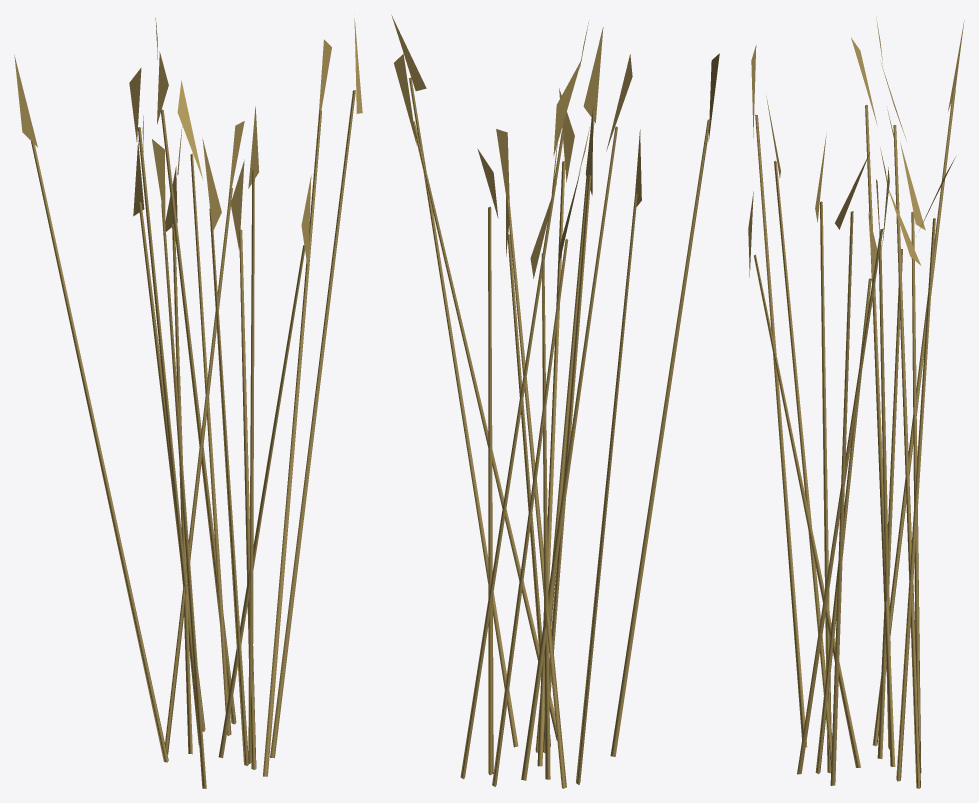
Rendered from trigo_3.glb.
3 renders of one model, left to right at view 1: azimuth 30°, elevation 25°; view 2: azimuth 150°, elevation 25°; view 3: azimuth 270°, elevation 25°, orthographic. The views are drawn at different scales.
Visible parts, largest first — view 1: trigo_3.001; view 2: trigo_3.001; view 3: trigo_3.001.
Boxes of the visible parts, x1,y1,x2,y2 form: trigo_3.001: [14, 14, 362, 788]; trigo_3.001: [391, 15, 719, 788]; trigo_3.001: [748, 16, 964, 788].
Bounding box in the file's own units: 0.5145 × 1.27 × 0.3415.
